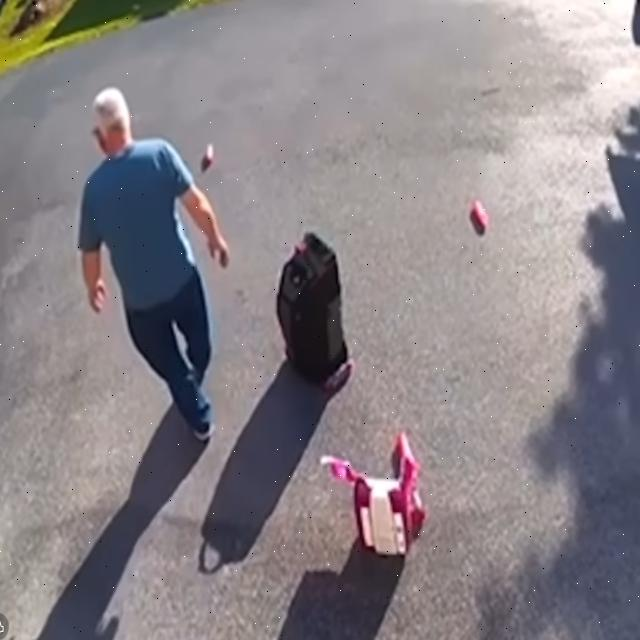standing: (79, 88, 229, 441)
